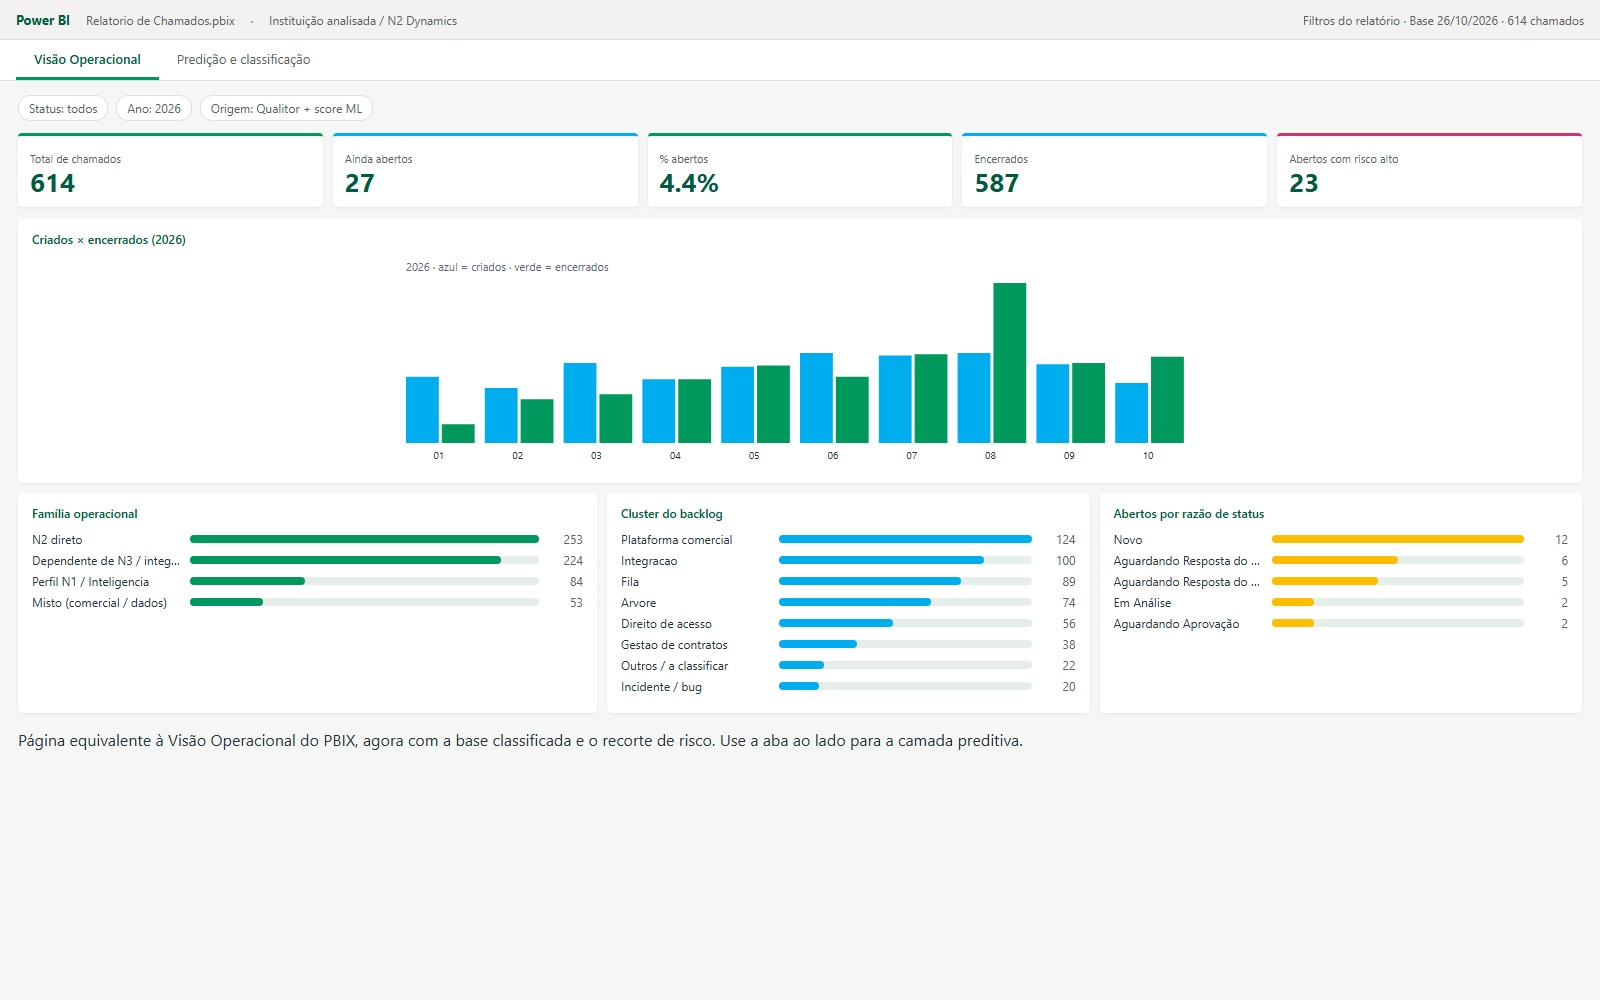

The page's visual inventory and layout, read from the dashboard file:
{"tool":"powerbi","page":{"name":"Visão Operacional","canvas":[1920,1080],"ordinal":0},"visuals":[{"type":"textbox","box":[0,0,1920,72],"z":0},{"type":"slicer","title":"Status","fields":{"Values":["Chamados.Status"]},"box":[0,74,560,130],"z":1},{"type":"slicer","title":"Prioridade","fields":{"Values":["Chamados.Prioridade"]},"box":[560,76,698,128],"z":2},{"type":"slicer","title":"Data de Criação","fields":{"Values":["Chamados.Data criacao"]},"box":[1258,74,662,130],"z":3},{"type":"cardVisual","fields":{"Data":["Chamados.Total Chamados"]},"box":[0,204,368,106],"z":4},{"type":"cardVisual","fields":{"Data":["Chamados.Abertos"]},"box":[368,204,374,106],"z":5},{"type":"cardVisual","fields":{"Data":["Chamados.Pct Abertos"]},"box":[742,204,386,106],"z":6},{"type":"cardVisual","fields":{"Data":["Chamados.Encerrados"]},"box":[1128,204,388,106],"z":7},{"type":"cardVisual","fields":{"Data":["Chamados.Risco Alto Abertos"]},"box":[1516,204,404,106],"z":8},{"type":"columnChart","fields":{"Category":["Calendario.Data.Variação.Hierarquia de datas.Mês"],"Y":["Chamados.Criados","Chamados.Encerrados no mes"]},"box":[0,310,1920,288],"z":9},{"type":"barChart","title":"Chamado por Familia operacional","fields":{"Category":["Chamados.Familia operacional"],"Y":["CountNonNull(Chamados.Id Chamado Qualitor)"]},"box":[0,598,638,482],"z":10},{"type":"barChart","title":"Chamado por Cluster","fields":{"Category":["Chamados.Cluster"],"Y":["CountNonNull(Chamados.Id Chamado Qualitor)"]},"box":[638,598,664,482],"z":11},{"type":"barChart","title":"Chamado por Razão do Status","fields":{"Category":["Chamados.Razao do Status"],"Y":["CountNonNull(Chamados.Id Chamado Qualitor)"]},"box":[1302,600,618,480],"z":12}]}

Visuals, with their boxes on the page's 1920x1080 design canvas (x1, y1, x2, y2). These are canvas units, not pixel positions in the 1600x1000 screenshot, which may show the page scaled, cropped or inside an application window:
textbox: (x1=0, y1=0, x2=1920, y2=72)
"Status" slicer: (x1=0, y1=74, x2=560, y2=204)
"Prioridade" slicer: (x1=560, y1=76, x2=1258, y2=204)
"Data de Criação" slicer: (x1=1258, y1=74, x2=1920, y2=204)
cardVisual - Chamados.Total Chamados: (x1=0, y1=204, x2=368, y2=310)
cardVisual - Chamados.Abertos: (x1=368, y1=204, x2=742, y2=310)
cardVisual - Chamados.Pct Abertos: (x1=742, y1=204, x2=1128, y2=310)
cardVisual - Chamados.Encerrados: (x1=1128, y1=204, x2=1516, y2=310)
cardVisual - Chamados.Risco Alto Abertos: (x1=1516, y1=204, x2=1920, y2=310)
columnChart - Calendario.Data.Variação.Hierarquia de datas.Mês x Chamados.Criados: (x1=0, y1=310, x2=1920, y2=598)
"Chamado por Familia operacional" barChart: (x1=0, y1=598, x2=638, y2=1080)
"Chamado por Cluster" barChart: (x1=638, y1=598, x2=1302, y2=1080)
"Chamado por Razão do Status" barChart: (x1=1302, y1=600, x2=1920, y2=1080)
